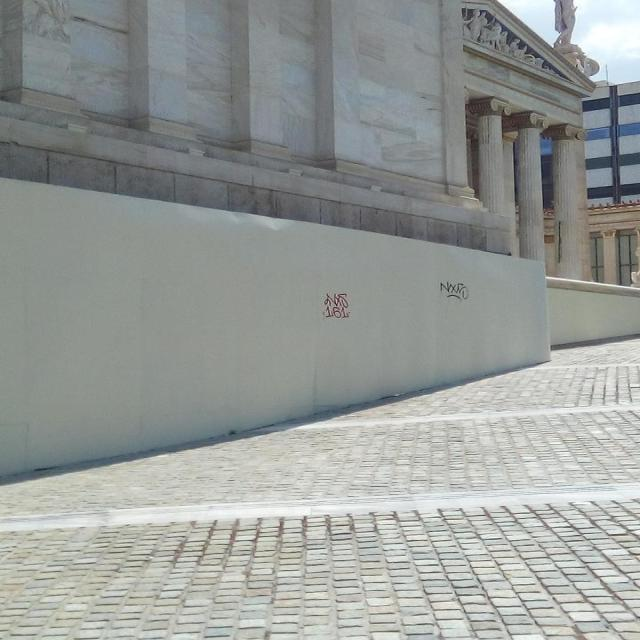nonspitting: (324, 292, 350, 318), (440, 282, 470, 300)
